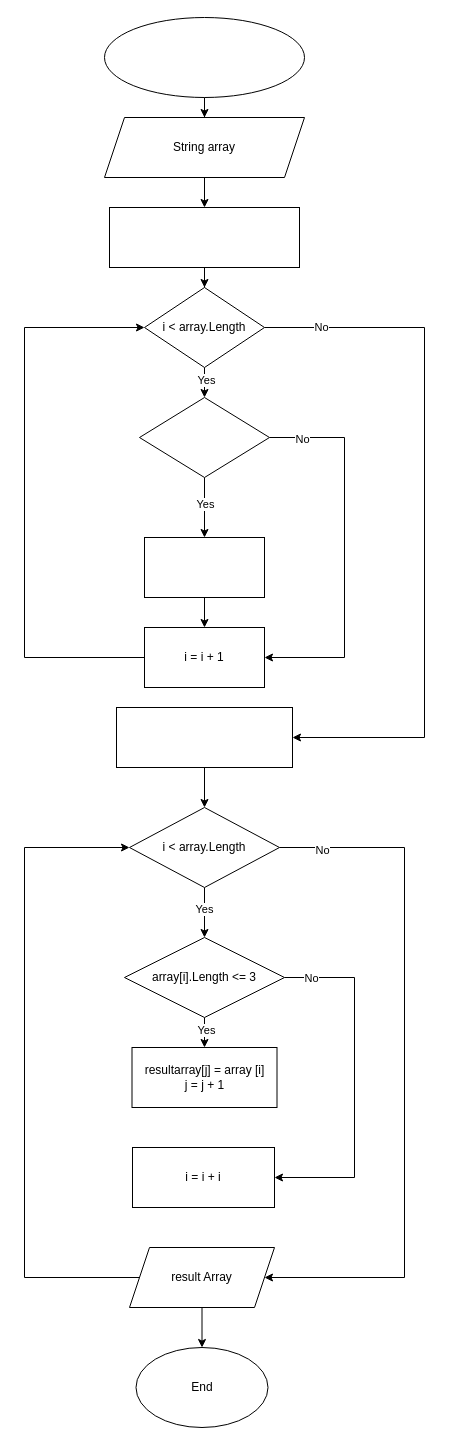
The diagram is 450 pixels wide and 1445 high, and some of its shapes have lost their labels. Here are the shapes that lost their labels. From the top down, the box of each, then its label:
(104, 16, 304, 98): Start
(108, 206, 300, 268): i = 0 counter = 0
(138, 396, 270, 478): array[i].Length <=3
(144, 536, 264, 598): counter = counter +1
(116, 706, 292, 768): Сreate resultArray[counter] j = 0 i = 0
